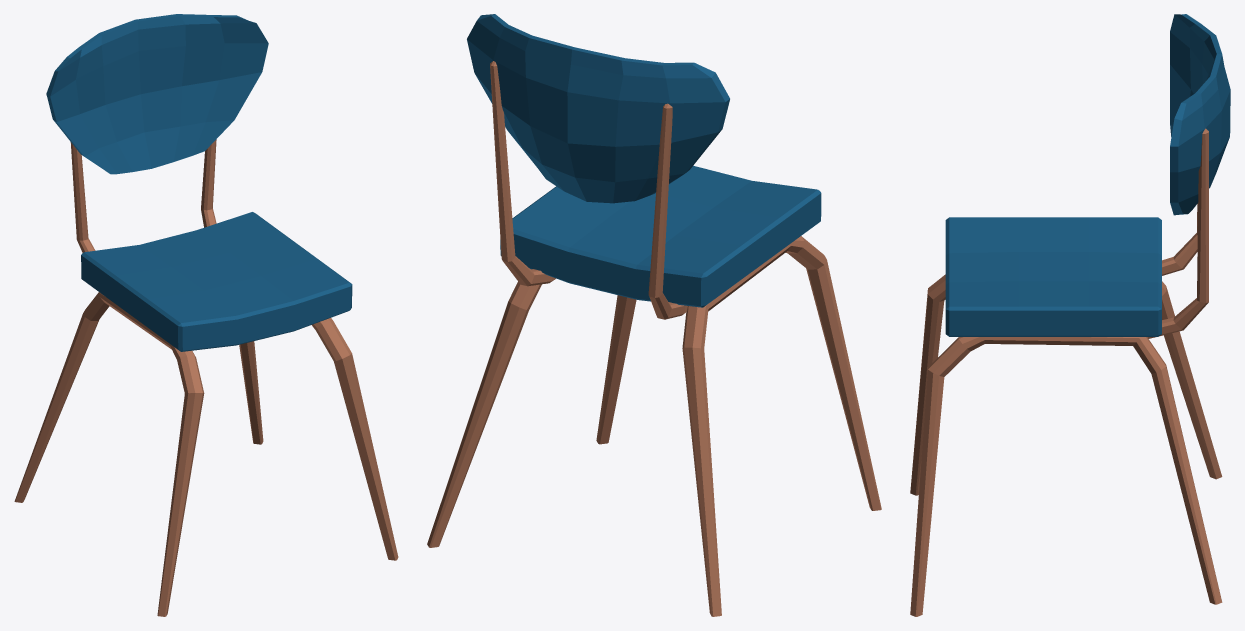
File: стул кухня.fbx
3 renders of one model, left to right at view 1: azimuth 30°, elevation 25°; view 2: azimuth 150°, elevation 25°; view 3: azimuth 270°, elevation 25°, orthographic. The views are drawn at different scales.
Parts seen in each view (by area): view 1: Cube.064; view 2: Cube.064; view 3: Cube.064.
Boxes of the visible parts, x1,y1,x2,y2 form: Cube.064: (14,14,398,616); Cube.064: (427,14,881,616); Cube.064: (910,14,1230,616).
Size of the model in its own units: 774 by 1379 by 802.
